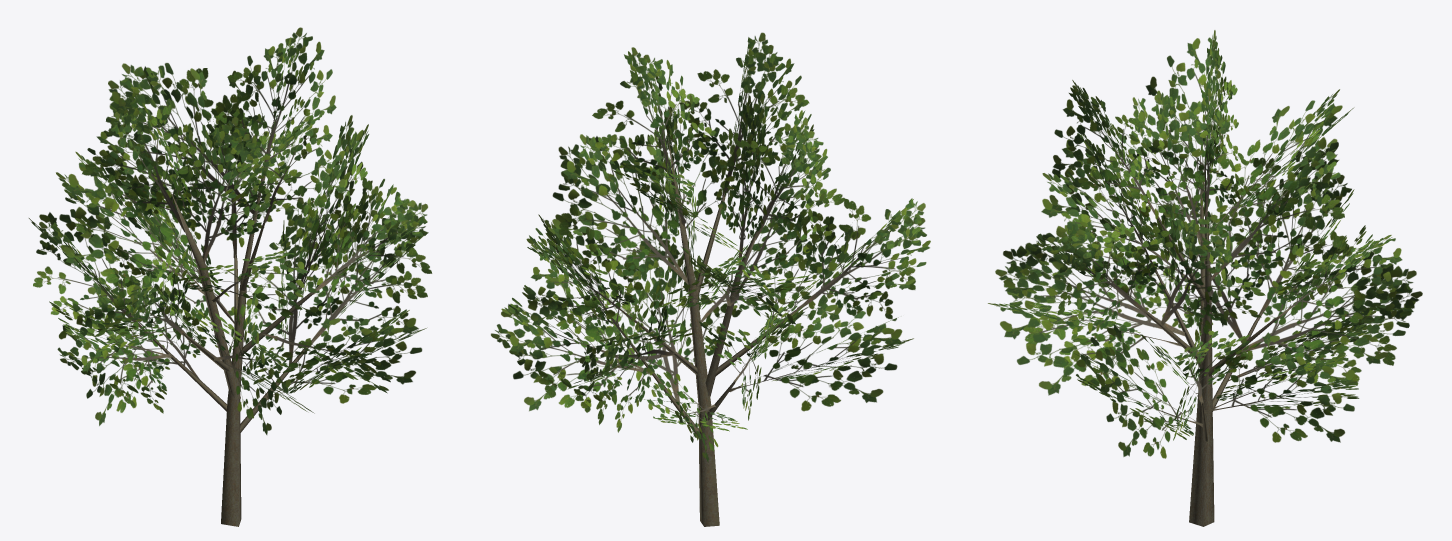
3 views of the same model, side by side, from view 1: azimuth 30°, elevation 25°; view 2: azimuth 150°, elevation 25°; view 3: azimuth 270°, elevation 25° (orthographic). The views are drawn at different scales.
Visible parts, largest first — view 1: um_t1_pl015_model_t1_pl015_modelShape; view 2: um_t1_pl015_model_t1_pl015_modelShape; view 3: um_t1_pl015_model_t1_pl015_modelShape.
Part boxes in pixels (<box>): um_t1_pl015_model_t1_pl015_modelShape: <box>29,27,432,526</box>; um_t1_pl015_model_t1_pl015_modelShape: <box>491,32,930,526</box>; um_t1_pl015_model_t1_pl015_modelShape: <box>988,30,1422,526</box>.
Bounding box in the file's own units: 5.58 × 6.39 × 5.61.
Materials: 2 (2 with a texture image).
